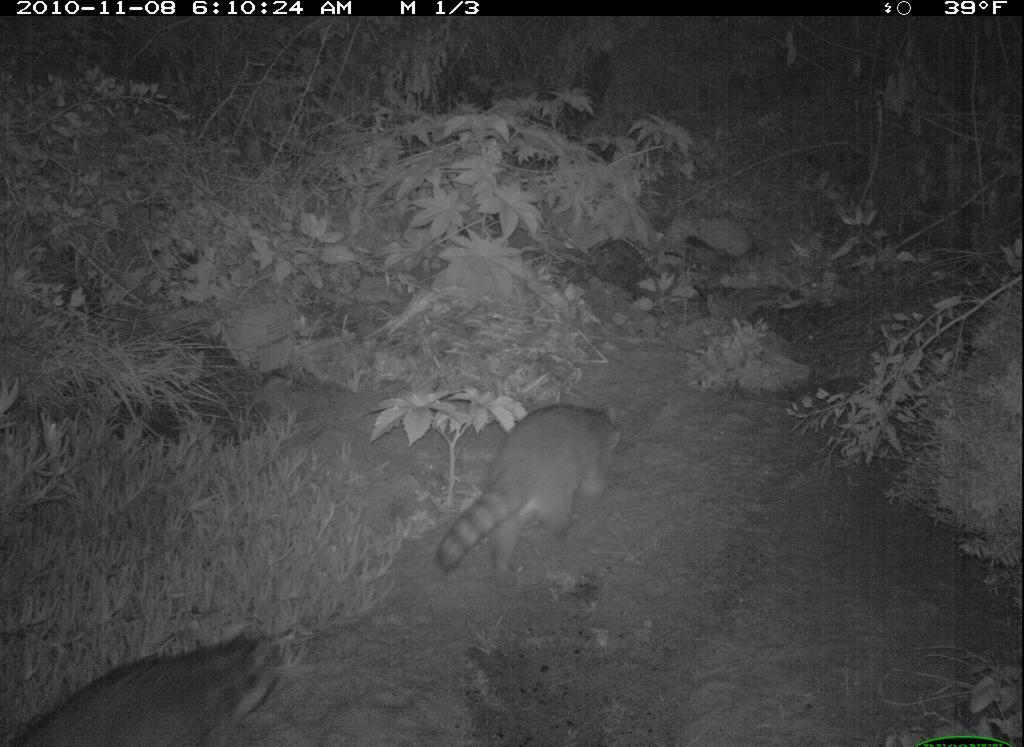raccoon: (428, 397, 639, 592)
